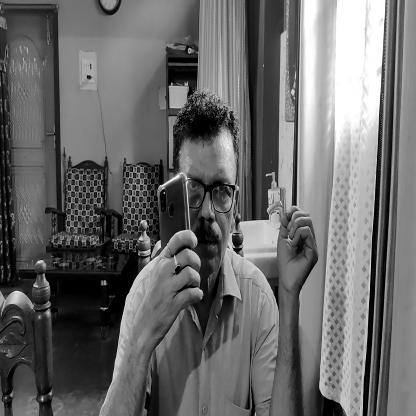Normal: (186, 106, 241, 278)
